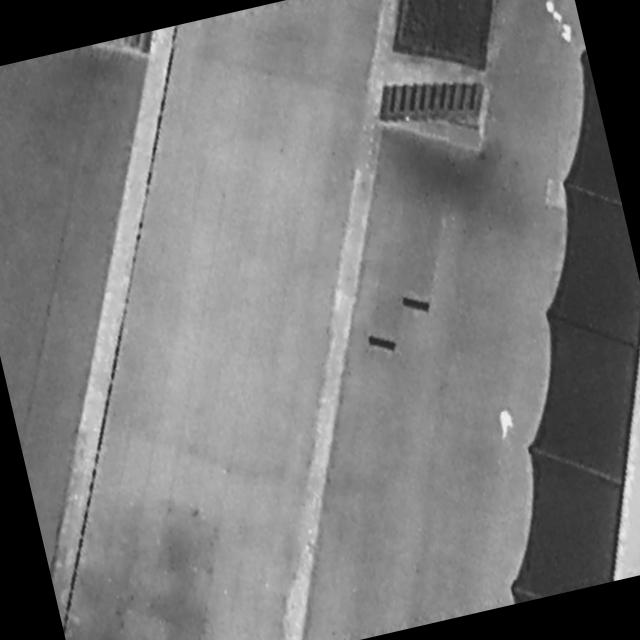person: (491, 401, 523, 445)
